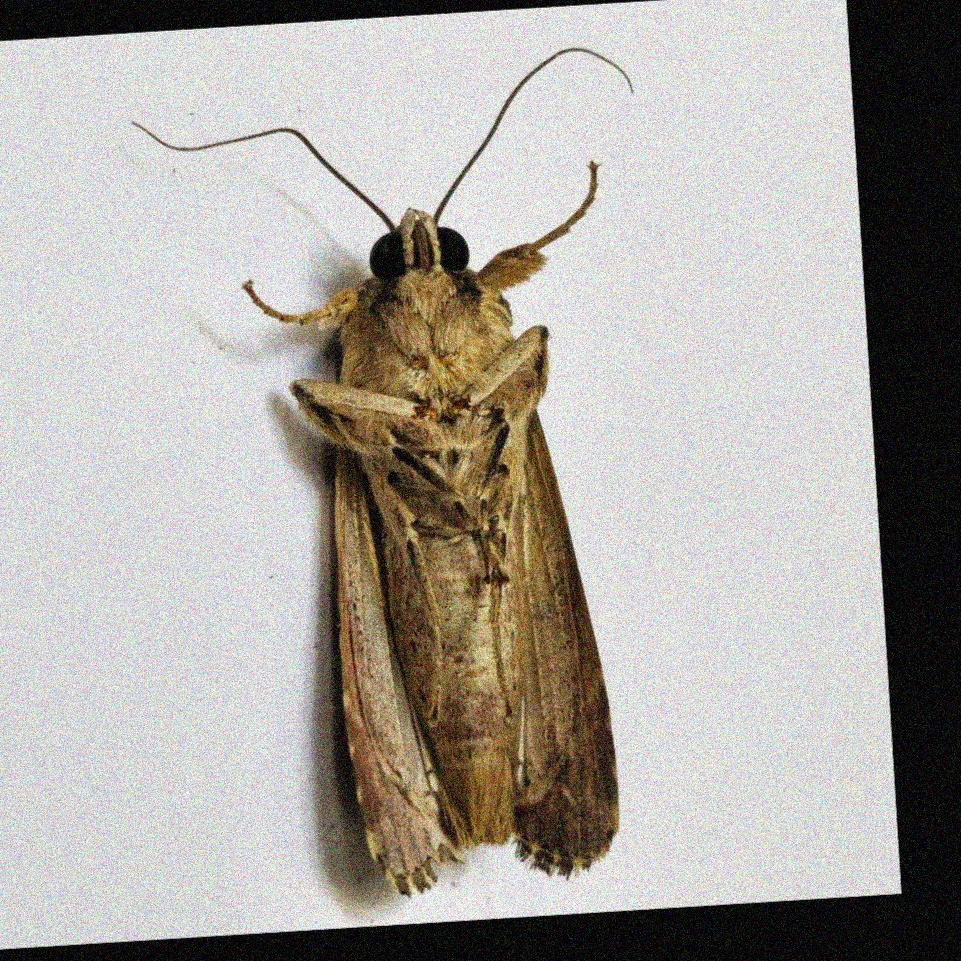Spodoptera litura: (155, 58, 657, 897)
